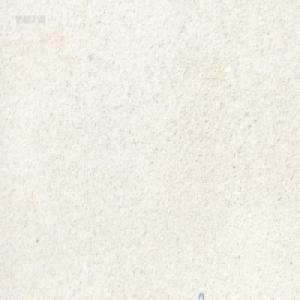Washer: (198, 291, 204, 299)
